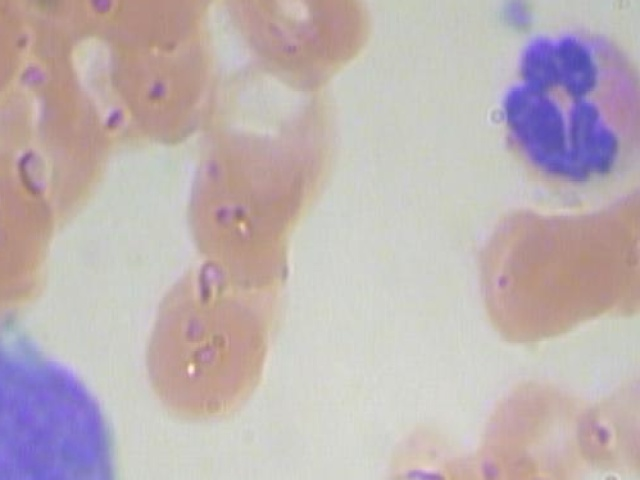Platelets: (492, 0, 538, 39)
RBC: (129, 281, 294, 423), (156, 123, 321, 265), (490, 191, 640, 333), (0, 53, 115, 225), (463, 366, 628, 480), (108, 0, 230, 143), (220, 0, 385, 81), (560, 170, 640, 312), (578, 344, 640, 480), (0, 0, 42, 113), (637, 0, 640, 23)
WBC: (485, 24, 640, 201), (0, 307, 126, 480)
